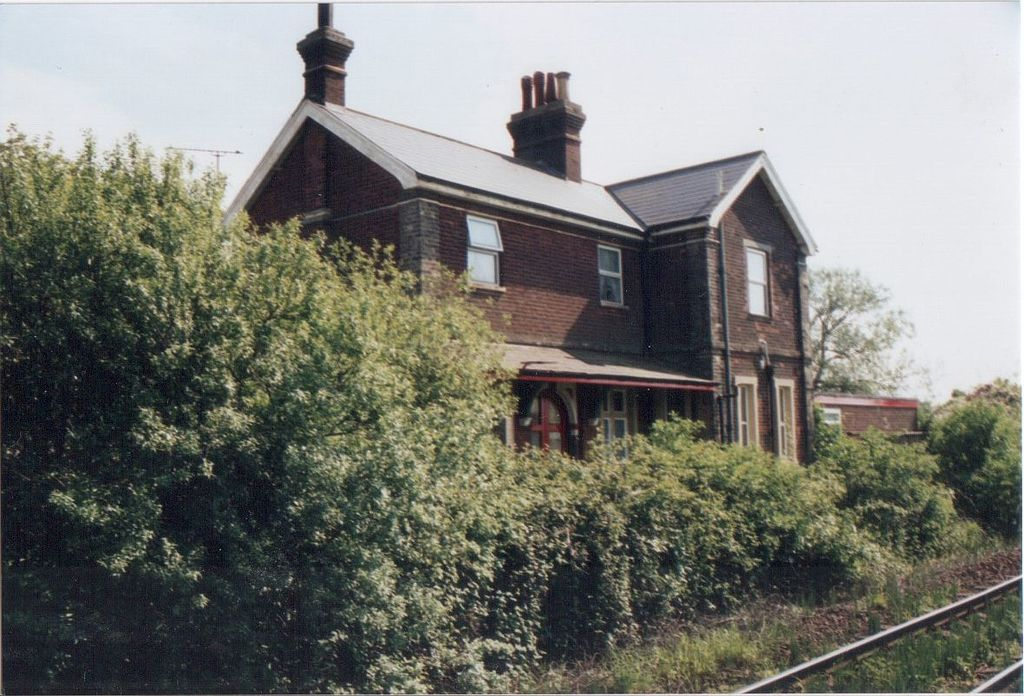Tree: (3, 146, 504, 691), (795, 257, 926, 400), (939, 368, 1018, 522)
